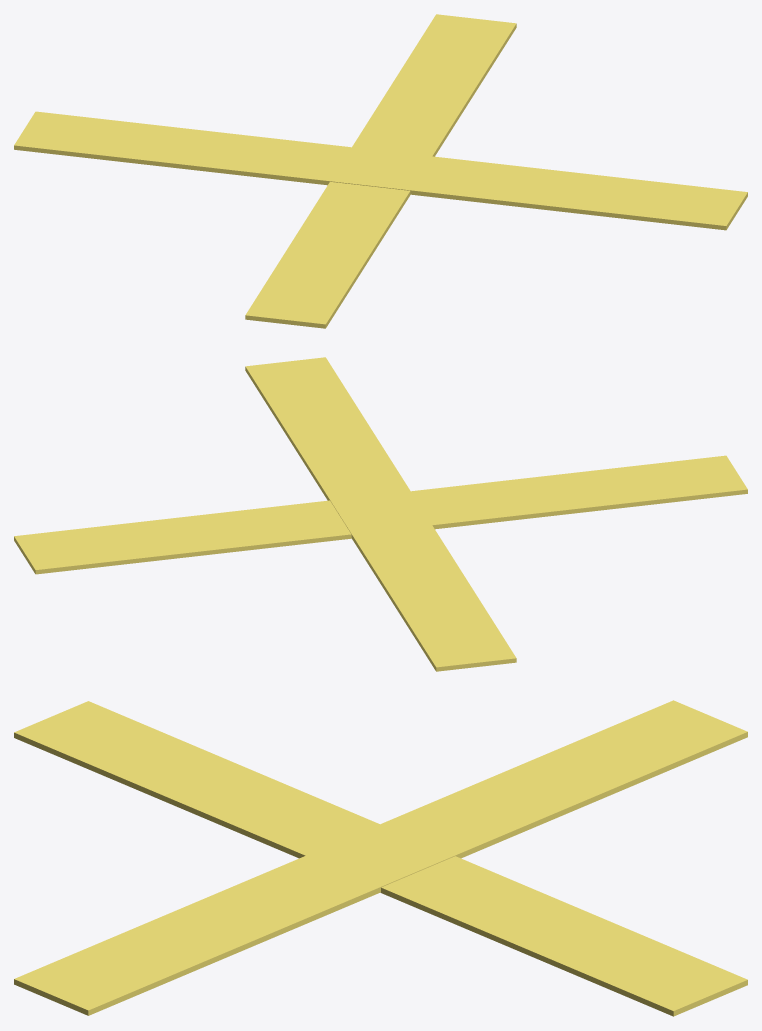
Rendered from prop_camera_mark_01.glb.
3 renders of one model, top to bottom at view 1: azimuth 30°, elevation 25°; view 2: azimuth 150°, elevation 25°; view 3: azimuth 270°, elevation 25°, orthographic. The views are drawn at different scales.
Visible parts, largest first — view 1: prop_camera_mark_01_body; view 2: prop_camera_mark_01_body; view 3: prop_camera_mark_01_body.
Boxes of the visible parts, bbox=[...] form: prop_camera_mark_01_body: bbox=[14, 14, 747, 328]; prop_camera_mark_01_body: bbox=[14, 357, 747, 671]; prop_camera_mark_01_body: bbox=[14, 700, 747, 1016].
Size of the model in its own units: 0.4879 by 0.0045 by 0.4879.
